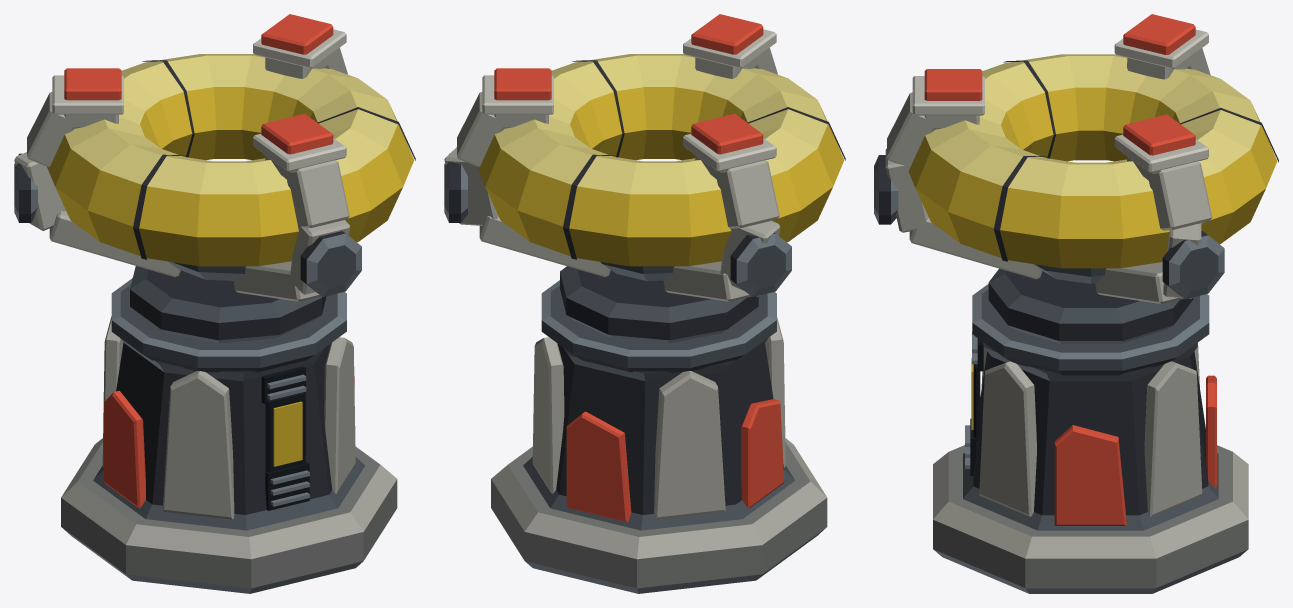
The model's file is lv1_reacteur.glb.
3 renders of one model, left to right at view 1: azimuth 30°, elevation 25°; view 2: azimuth 150°, elevation 25°; view 3: azimuth 270°, elevation 25°, orthographic.
Visible parts, largest first — view 1: Turret_Yaw, Base, Team_Panels, Base_TeamColor; view 2: Turret_Yaw, Base, Base_TeamColor, Team_Panels; view 3: Turret_Yaw, Base, Base_TeamColor, Team_Panels.
Part boxes in pixels (x1,y1,x2,y2): Turret_Yaw: (14,29,415,343); Base: (61,278,397,593); Team_Panels: (64,14,333,154); Base_TeamColor: (103,376,354,508); Turret_Yaw: (444,29,845,343); Base: (491,280,827,593); Base_TeamColor: (566,399,784,522); Team_Panels: (494,14,763,154); Turret_Yaw: (874,29,1278,344); Base: (933,284,1248,593); Base_TeamColor: (1054,375,1216,525); Team_Panels: (924,14,1195,155).
Bounding box in the file's own units: 1.76 × 2.2 × 1.78.
